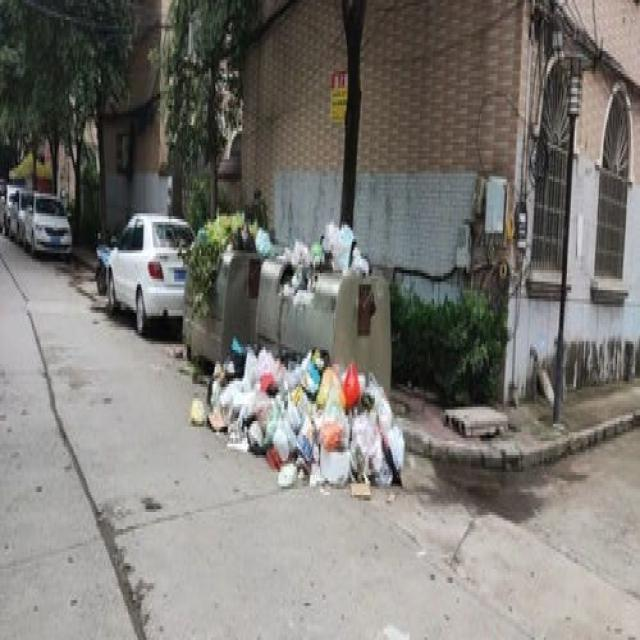garbage: (188, 336, 403, 495)
overflow: (254, 219, 391, 395), (180, 208, 268, 364)
